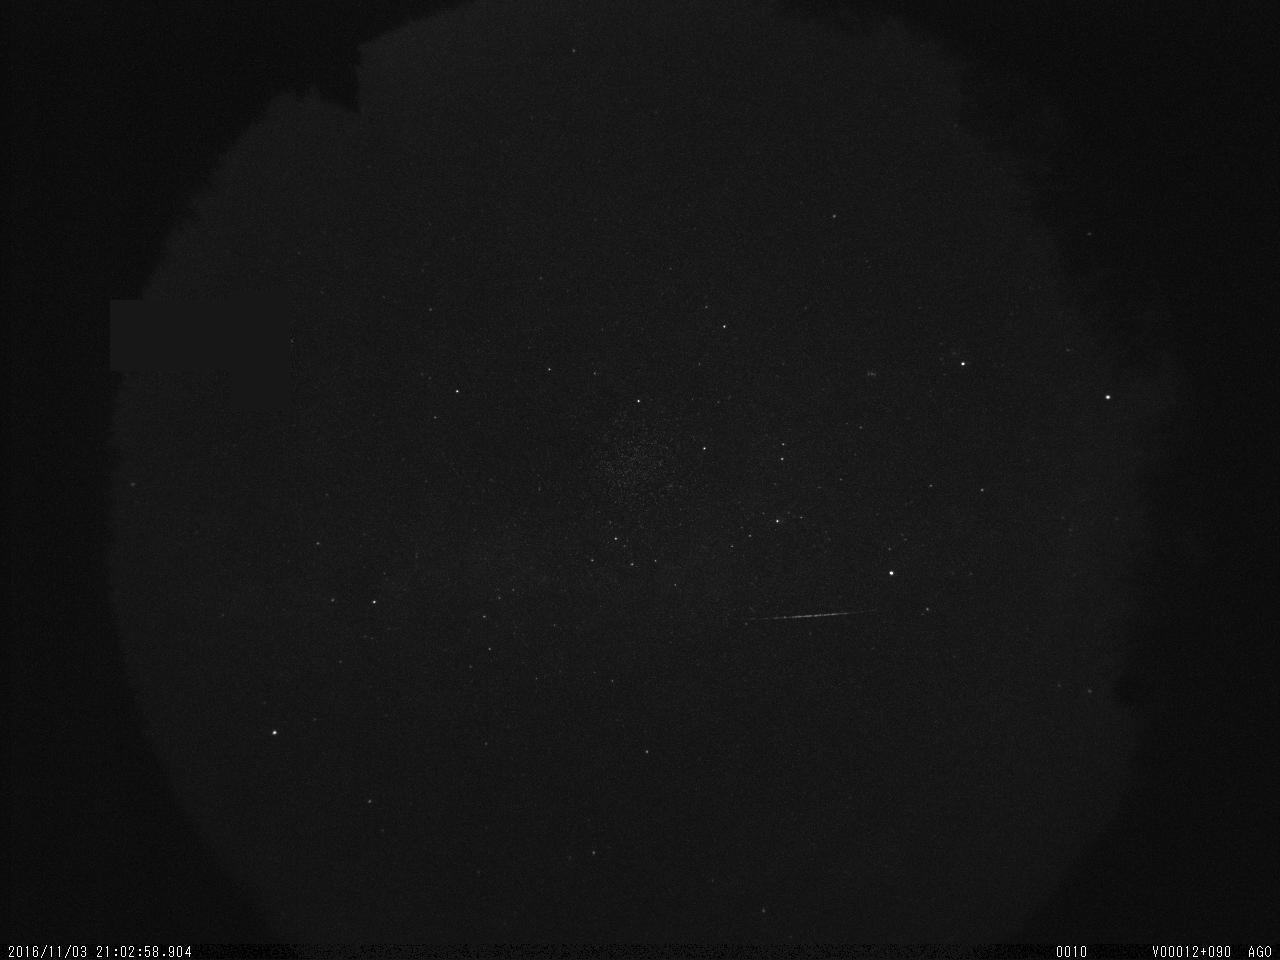meteor: (745, 599, 899, 632)
